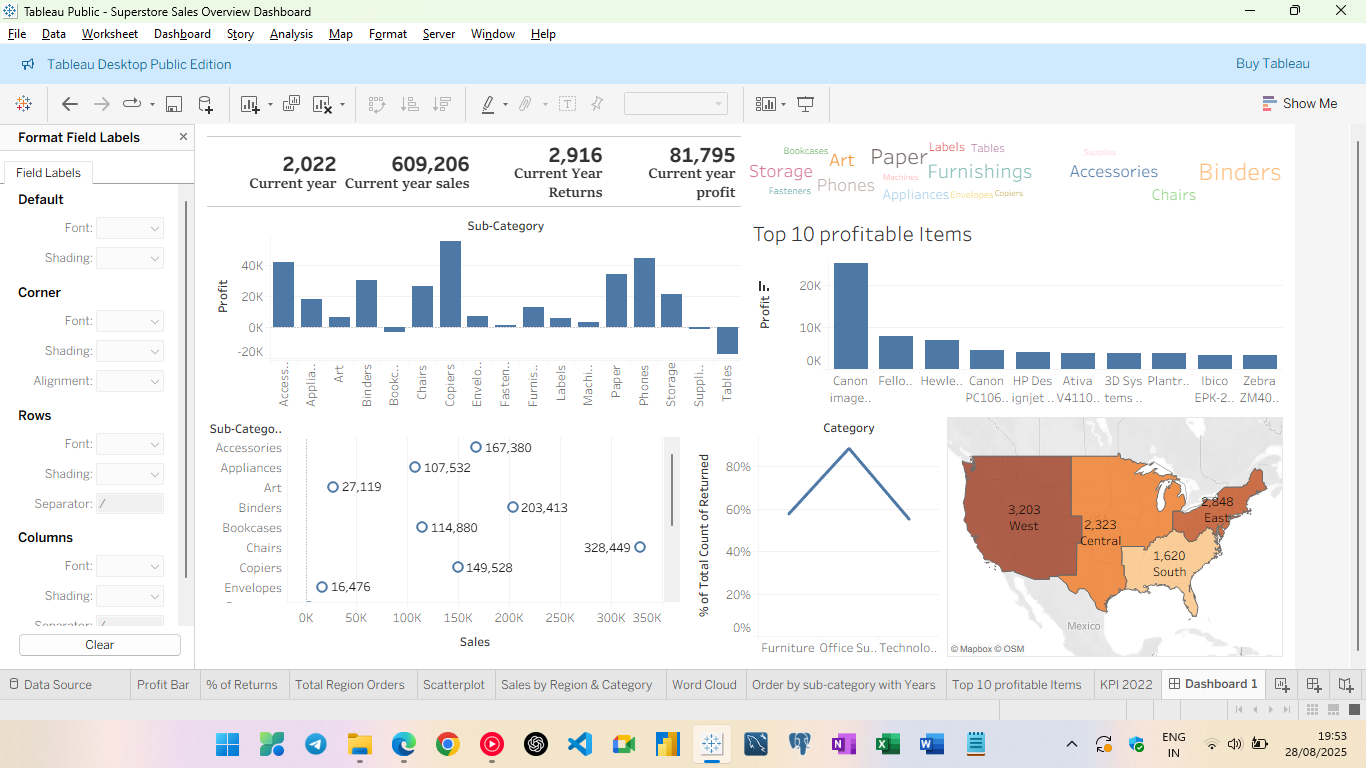

Layout of this report page (visuals, bound fields, positions):
{"tool":"tableau","page":{"name":"Dashboard 1","canvas":[1000,1000],"units":"permille","ordinal":0},"visuals":[{"type":"worksheet","title":"KPI 2022","mark":"Automatic","box":[7.3,14.7,492.7,144.9]},{"type":"worksheet","title":"Word Cloud","mark":"Text","box":[500,14.7,492.7,144.9]},{"type":"worksheet","title":"Profit Bar","mark":"Bar","rows":["Profit"],"cols":["Sub-Category"],"box":[7.3,159.6,492.7,370.7]},{"type":"worksheet","title":"Top 10 profitable Items","mark":"Automatic","rows":["Profit"],"cols":["Product Name"],"box":[500,159.6,492.7,370.7]},{"type":"worksheet","title":"Scatterplot","mark":"Shape","rows":["Sub-Category"],"cols":["Sales"],"box":[7.3,530.3,437.2,455]},{"type":"worksheet","title":"% of Returns","mark":"Line","rows":["Returned"],"cols":["Category"],"box":[444.5,530.3,235.5,455]},{"type":"worksheet","title":"Total Region Orders","mark":"Multipolygon","box":[680,530.3,312.8,455]}]}

Visuals, with their boxes on the dashboard's canvas, which has no fixed pixel size, in thousandths of its width and height (x1, y1, x2, y2). These are canvas units, not pixel positions in the 1366x768 screenshot, which may show the page scaled, cropped or inside an application window:
"KPI 2022" worksheet: x1=7 y1=15 x2=500 y2=160
"Word Cloud" worksheet (Text marks): x1=500 y1=15 x2=993 y2=160
"Profit Bar" worksheet (Bar marks): x1=7 y1=160 x2=500 y2=530
"Top 10 profitable Items" worksheet: x1=500 y1=160 x2=993 y2=530
"Scatterplot" worksheet (Shape marks): x1=7 y1=530 x2=444 y2=985
"% of Returns" worksheet (Line marks): x1=444 y1=530 x2=680 y2=985
"Total Region Orders" worksheet (Multipolygon marks): x1=680 y1=530 x2=993 y2=985
